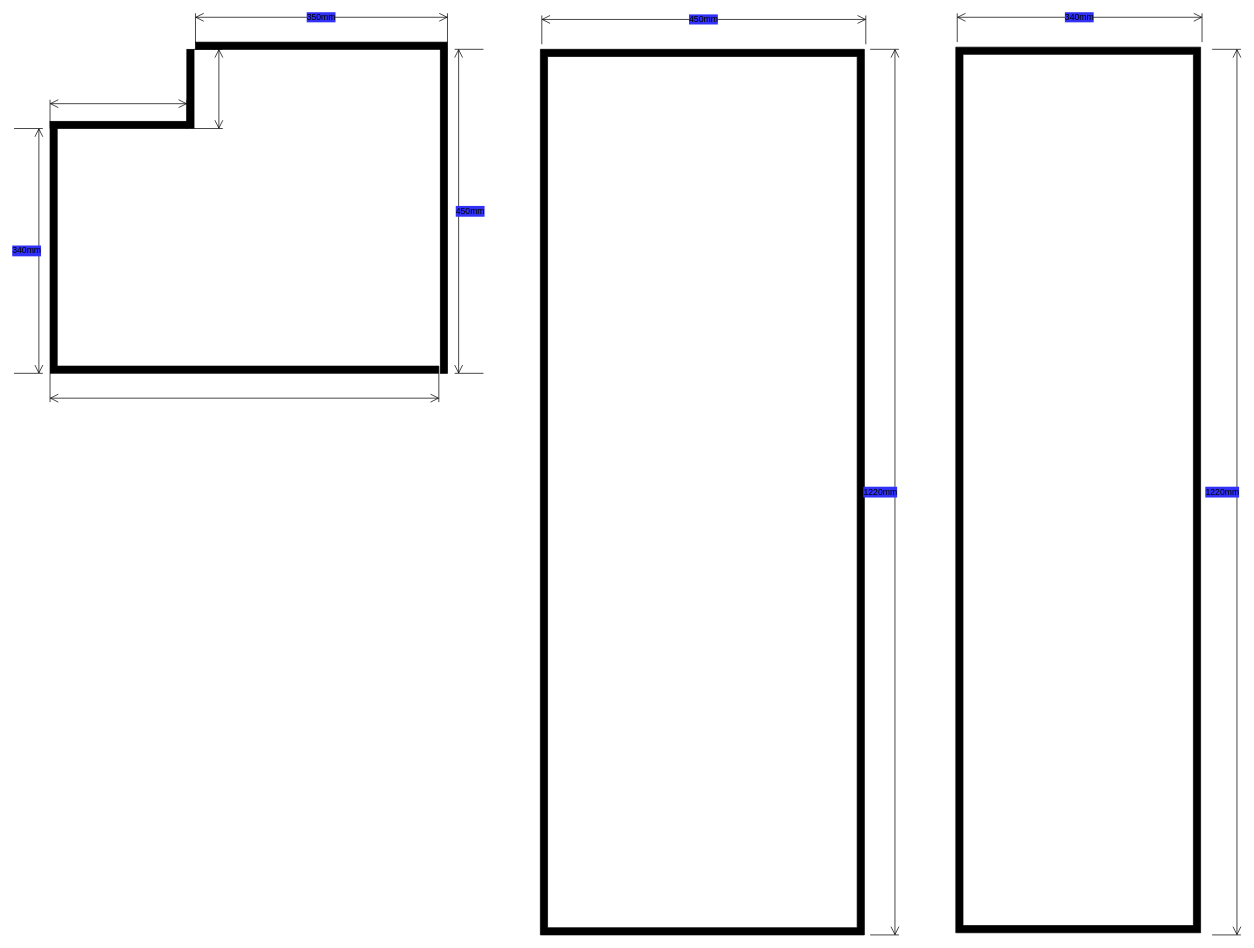
Image size: 1254x948. Some labels were removed from this diagram. Each missing label, with the centre of its shape:
"110mm" goes at point (208, 89).
"190mm" goes at point (118, 114).
"540mm" goes at point (244, 387).
